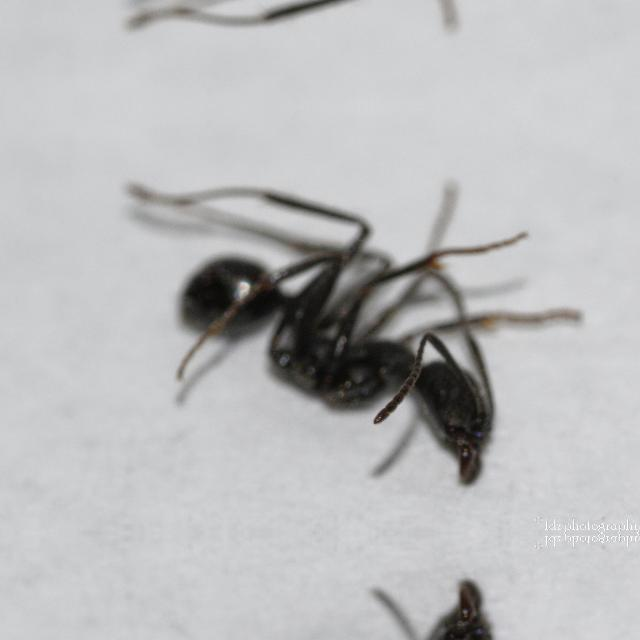Apheanogaster: (120, 188, 558, 446)
